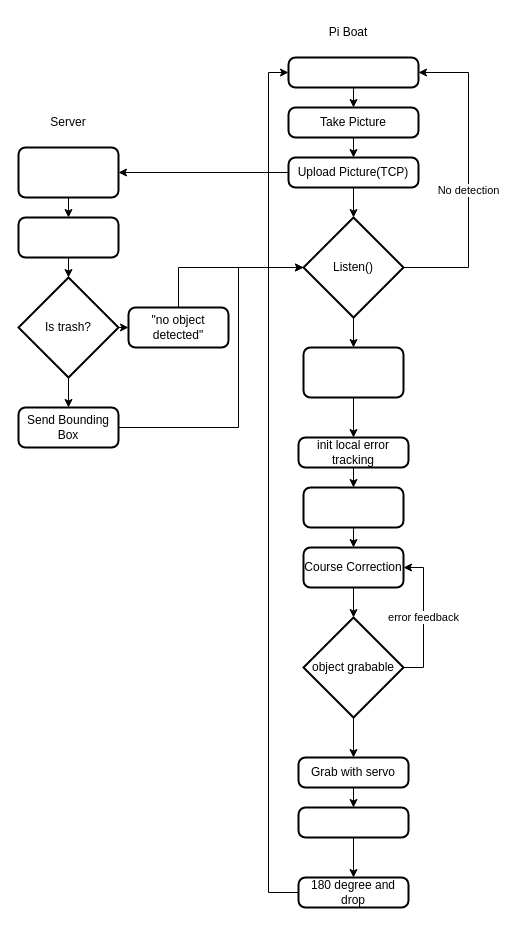
Some shapes in this 516 by 925 pixel diagram are drawn without their labels. The shapes that lost their labels are listed below. From the top down, each one's centre as x and y in pixels, then its label:
At point 353,72: "Rotate Left".
At point 68,172: "Wait for pi upload".
At point 68,237: "Run detection".
At point 353,372: "set tracking based on CNN bounding box".
At point 353,507: "Move Forward(sea keeping)".
At point 353,822: "Move backwards".
